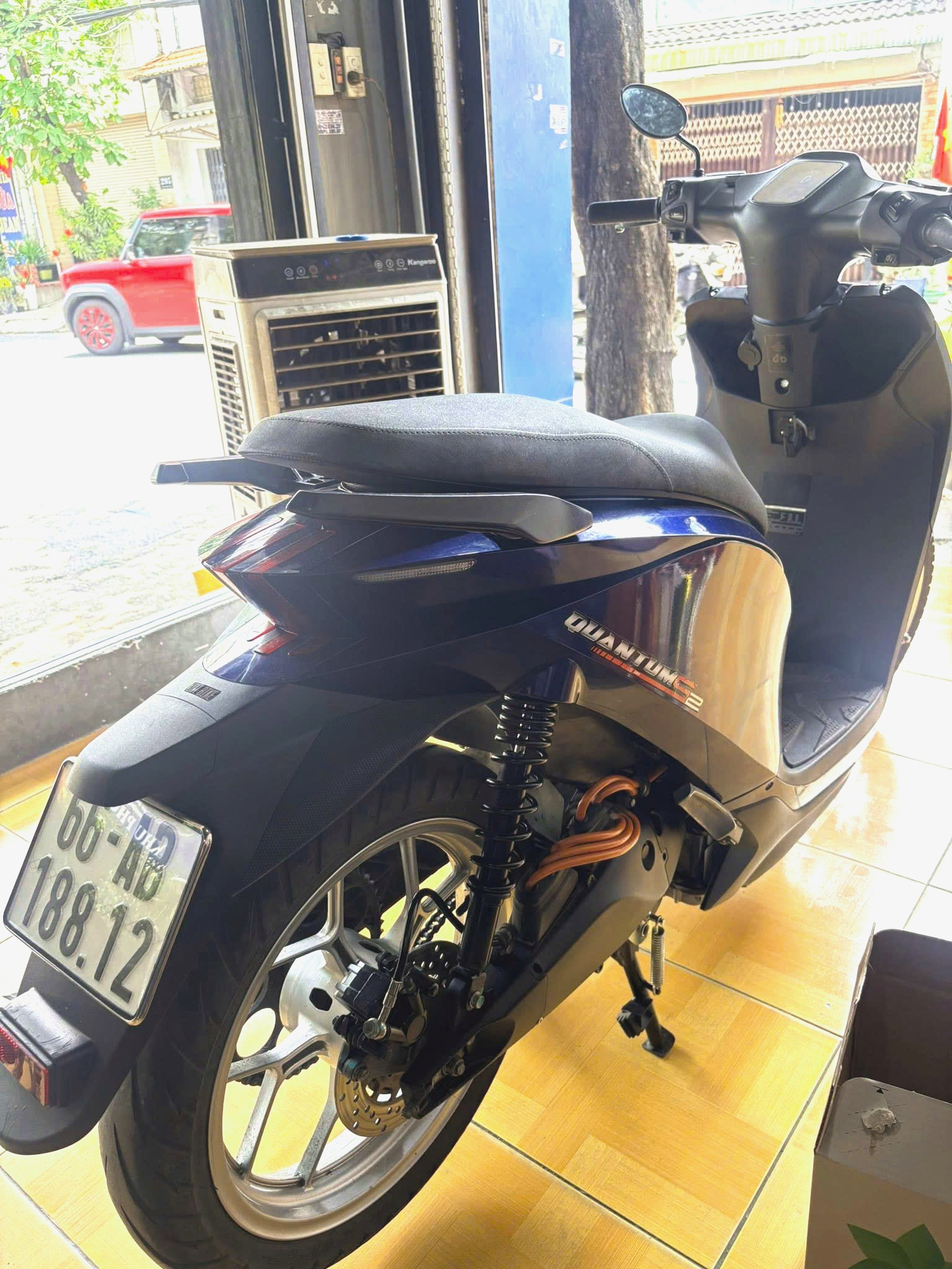Bien-so: (44, 766, 258, 1040)
